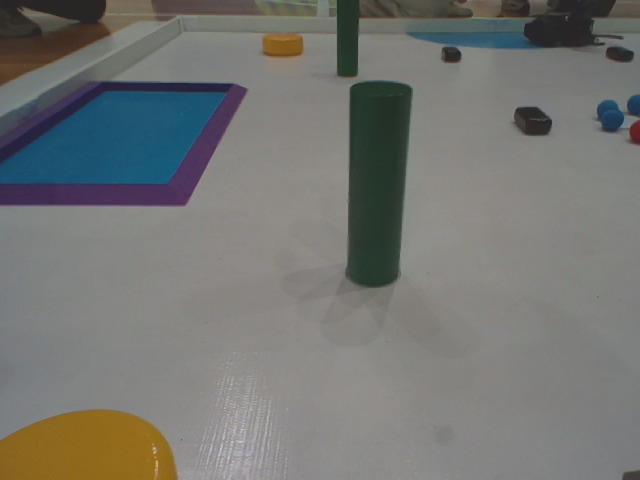black: (514, 105, 554, 134), (604, 45, 632, 60), (442, 46, 463, 62)
blue: (601, 112, 621, 132), (600, 98, 620, 116), (624, 92, 640, 113)
kuang: (1, 73, 249, 209)
red: (628, 120, 640, 142)
yellow: (1, 406, 182, 478), (261, 32, 304, 56)
zhuzi: (345, 77, 415, 290), (334, 1, 364, 79)
